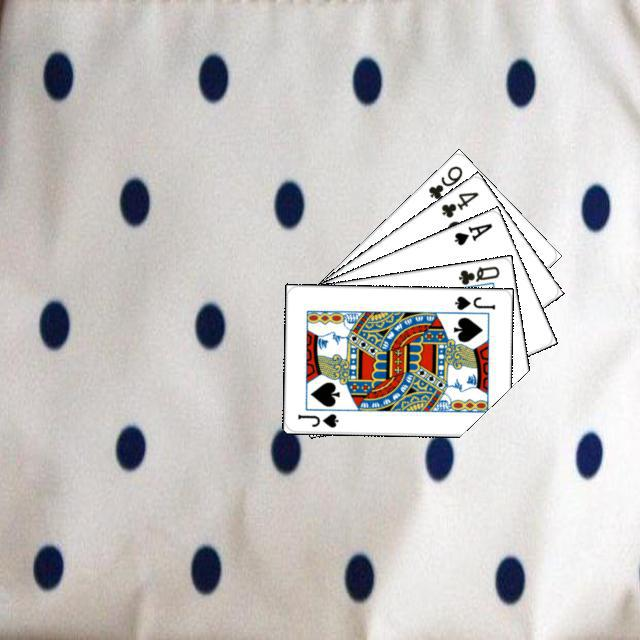4c: (436, 187, 480, 220)
9c: (423, 161, 464, 201)
As: (449, 218, 494, 247)
Js: (450, 291, 497, 311), (293, 409, 340, 429)
Qc: (451, 261, 501, 291)
